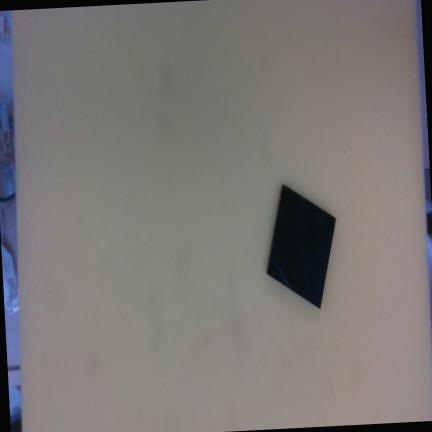tile: (262, 183, 341, 310)
